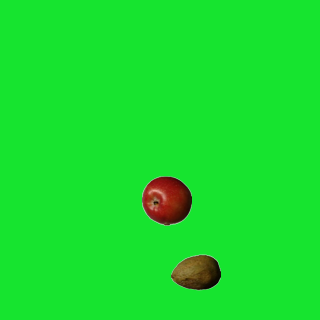Apple Braeburn: (141, 175, 191, 225)
Papaya: (170, 247, 220, 297)
